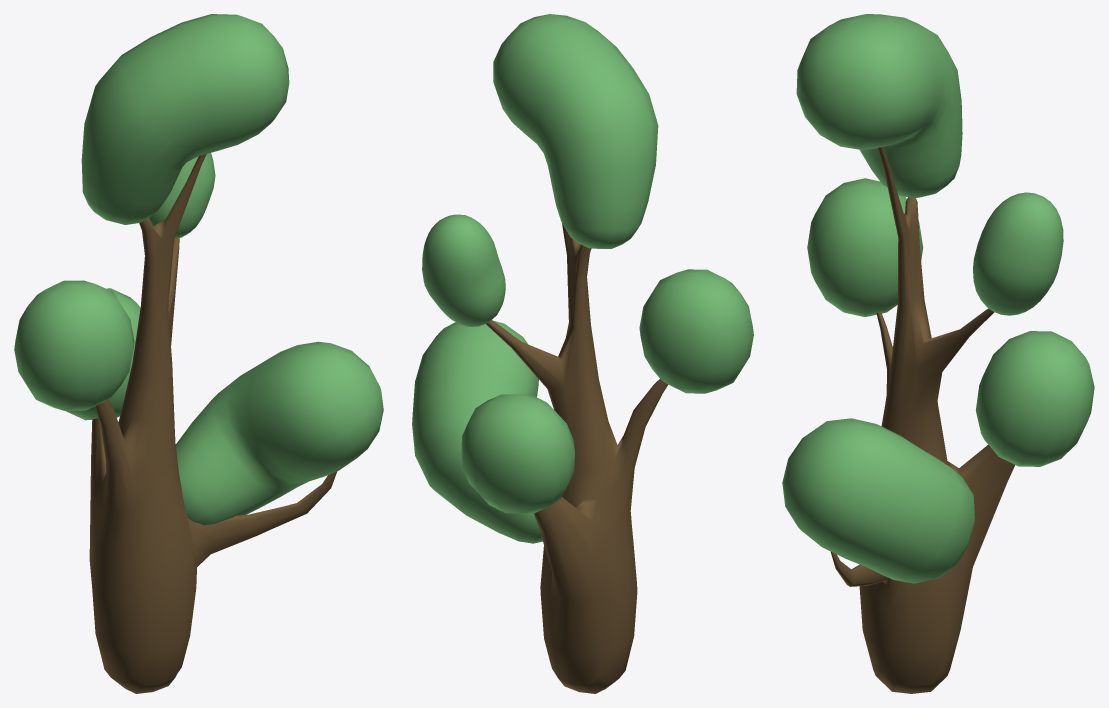
Rendered from Tree 1.fbx.
3 views of the same model, side by side, from view 1: azimuth 30°, elevation 25°; view 2: azimuth 150°, elevation 25°; view 3: azimuth 270°, elevation 25° (orthographic). The views are drawn at different scales.
Parts seen in each view (by area): view 1: pCube4; view 2: pCube4; view 3: pCube4.
Part boxes in pixels (<box>): pCube4: <box>14,14,383,693</box>; pCube4: <box>412,14,753,693</box>; pCube4: <box>782,14,1094,693</box>.
Size of the model in its own units: 2.05 by 3.78 by 1.55.
